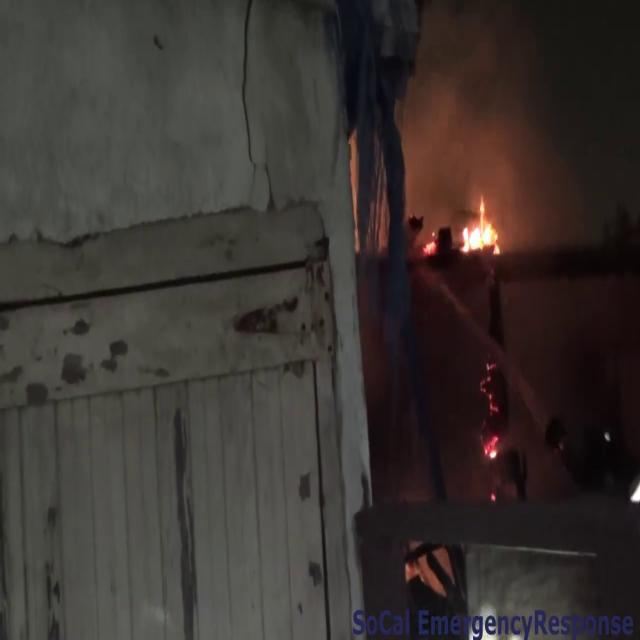Fire: (460, 192, 502, 261)
Smoke: (408, 1, 586, 228)
